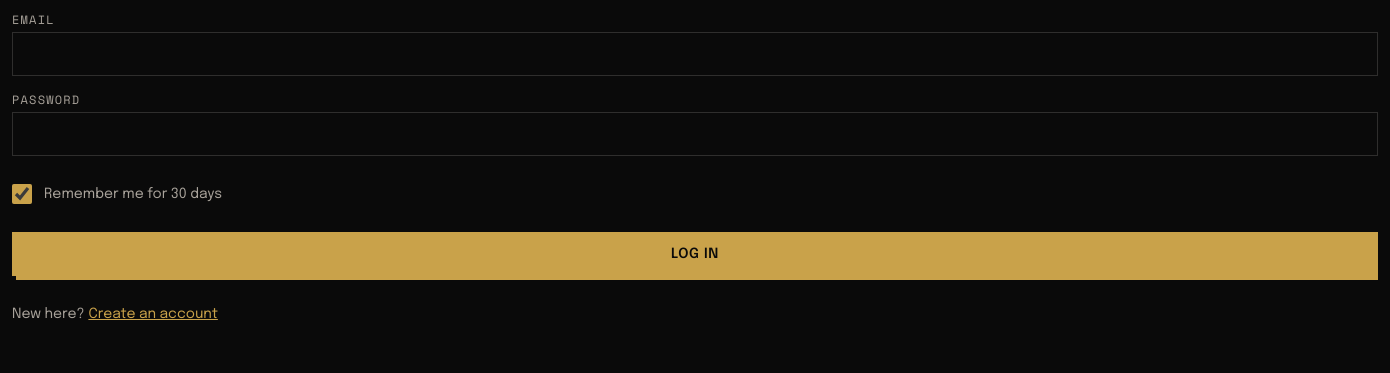
Scenario: auth forms › shows the API's error on bad credentials
Step 1. Type "me@example.com" into the field labelled "Email" → (695, 54), box 12,32 -> 1378,76
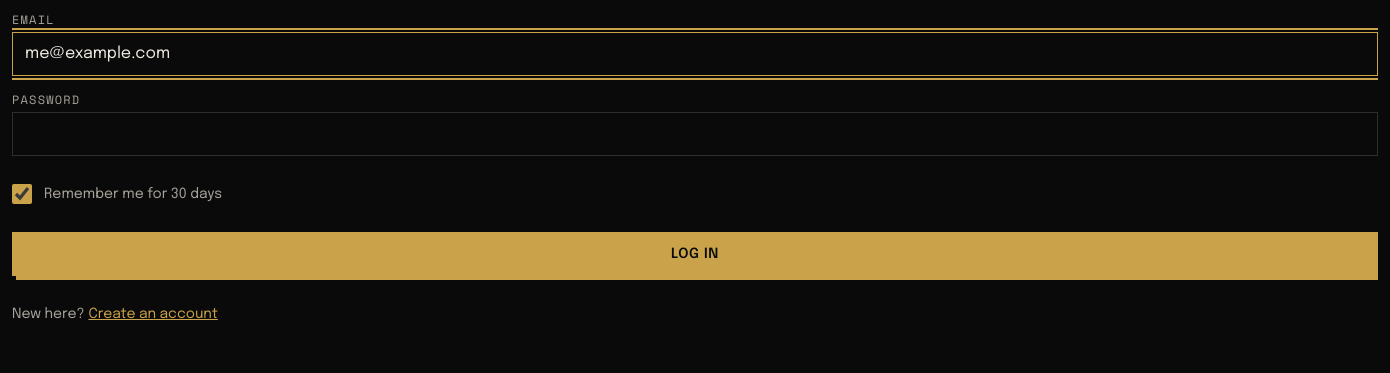
Step 2. Type "wrong-pass" into the password field labelled "Password" → (695, 134), box 12,112 -> 1378,156
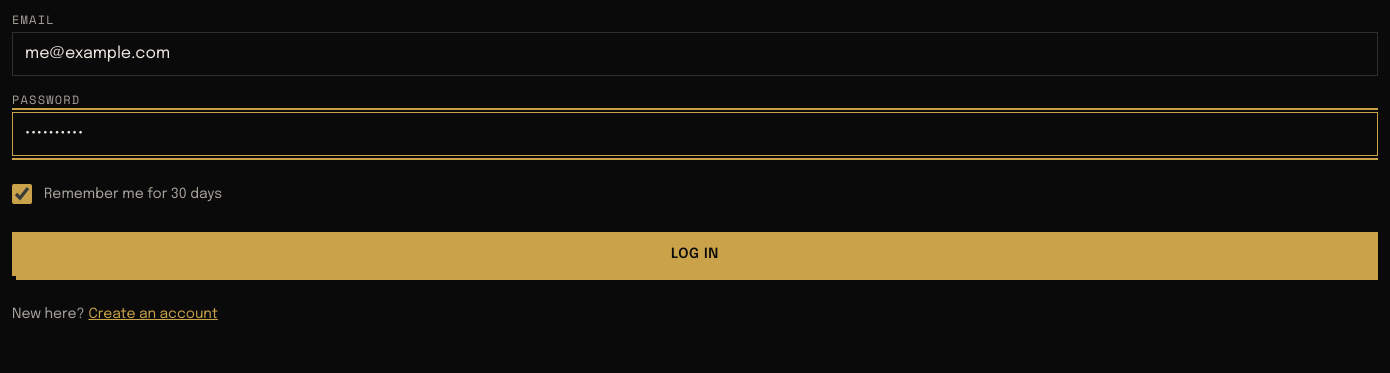
Step 3. Click the button "Log in" → (695, 254), box 12,232 -> 1378,276
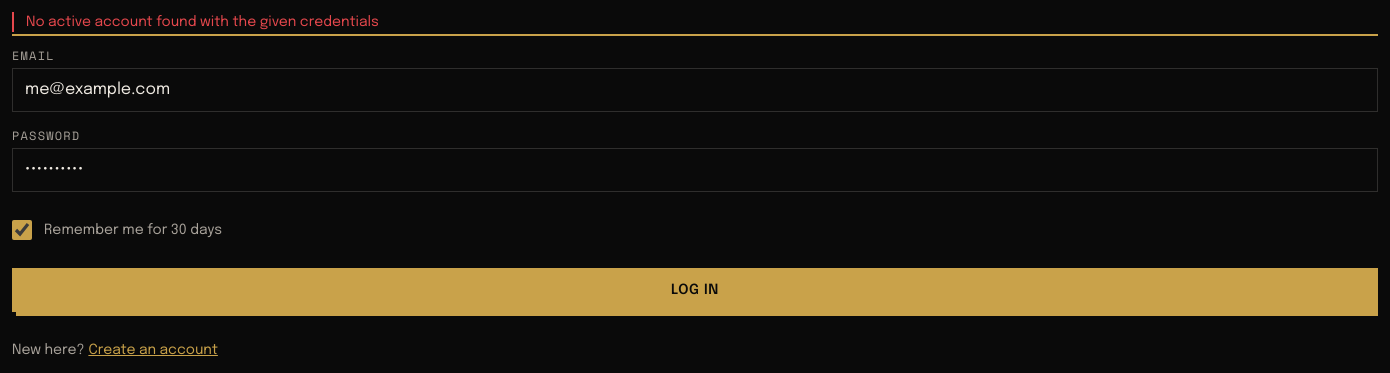
Check: the message reads "No active account found with the given credentials", box 26,15 -> 379,29
